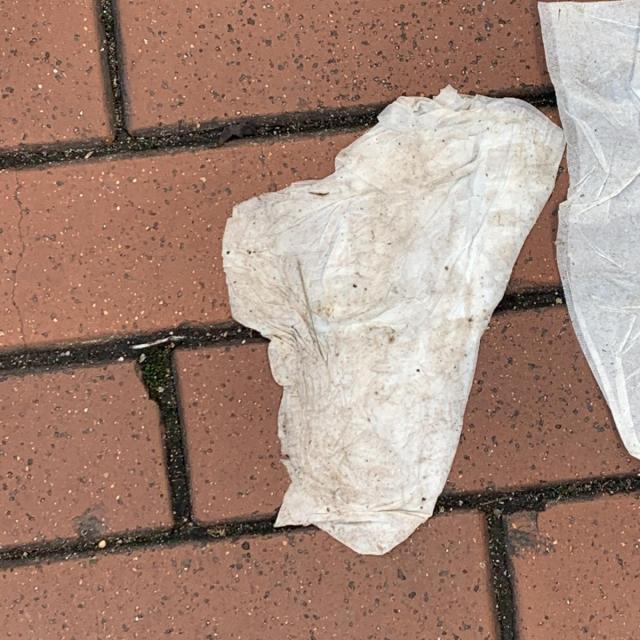Paper: (215, 83, 558, 547)
